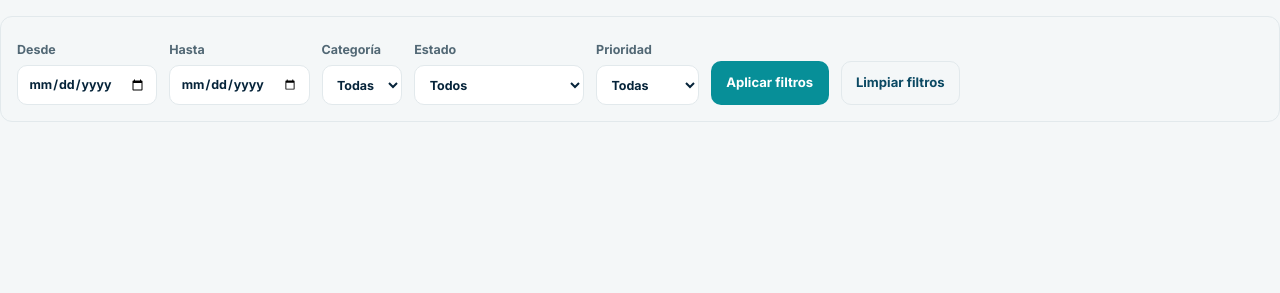
filtros de reportes › conserva fechas visibles, convierte a ISO y rechaza rangos inválidos
Type "2026-09-10" into the date field labelled "Desde" at (87, 85), box [17,65,157,105]
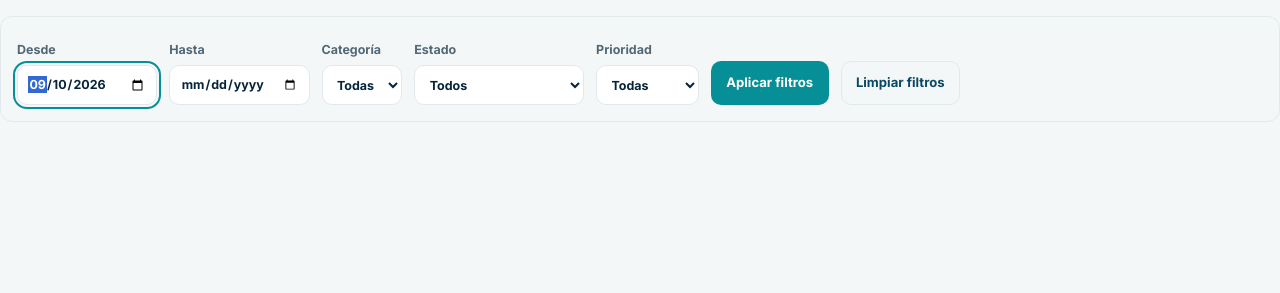
Type "2026-09-12" into the date field labelled "Hasta" at (239, 85), box [169,65,310,105]
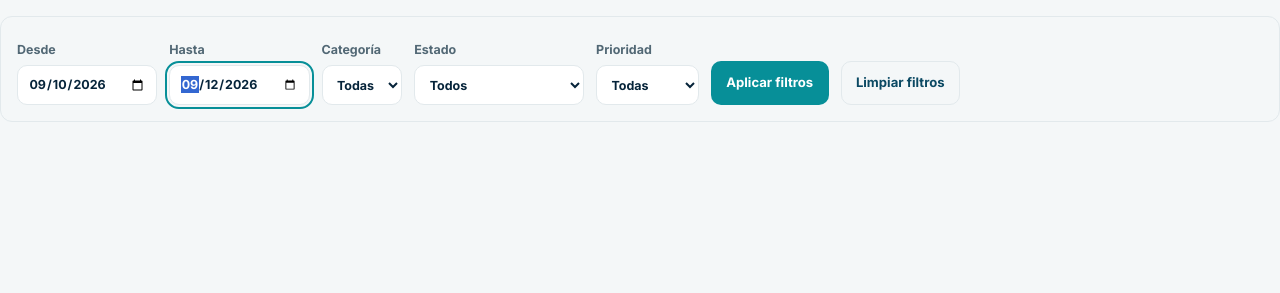
Click the button "Aplicar filtros" at (770, 83), box [711,61,828,105]
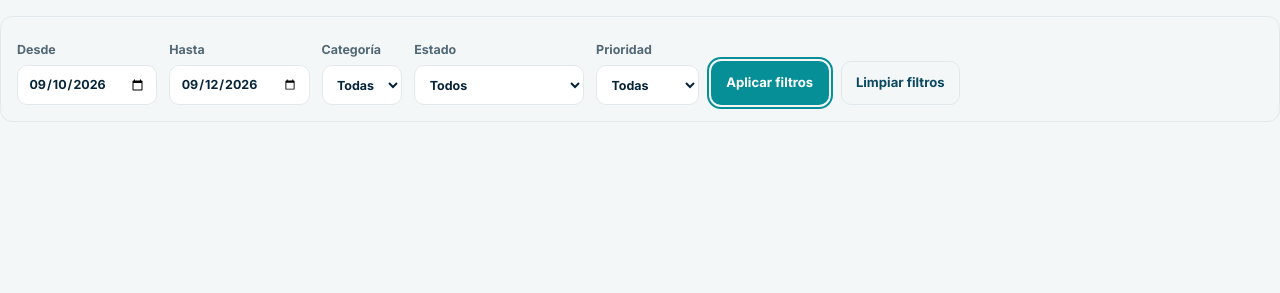
Type "2026-09-13" into the date field labelled "Desde" at (87, 85), box [17,65,157,105]
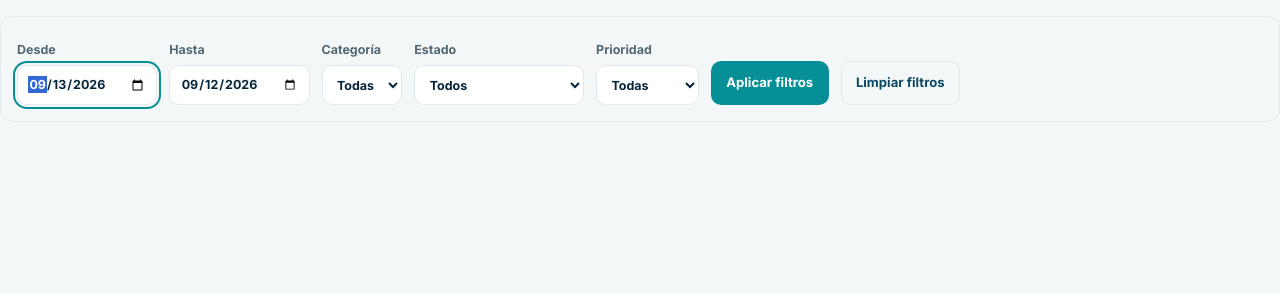
Click the button "Aplicar filtros" at (770, 83), box [711,61,828,105]
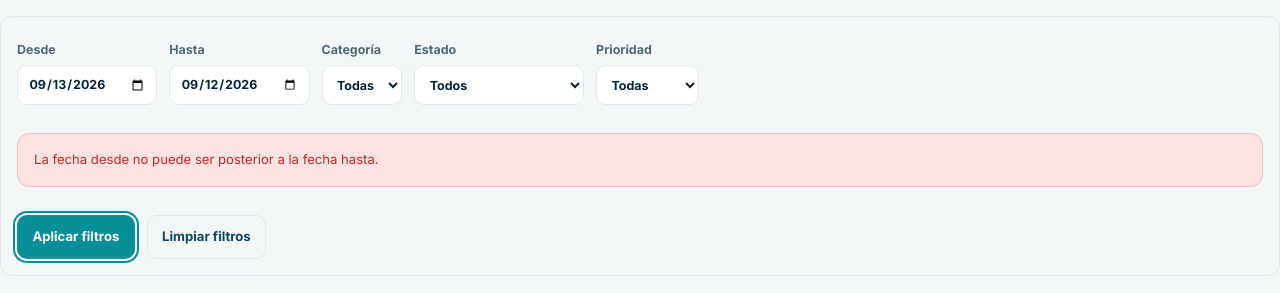
Now the message shows "fecha desde no puede ser posterior", box [34,151,379,167]
